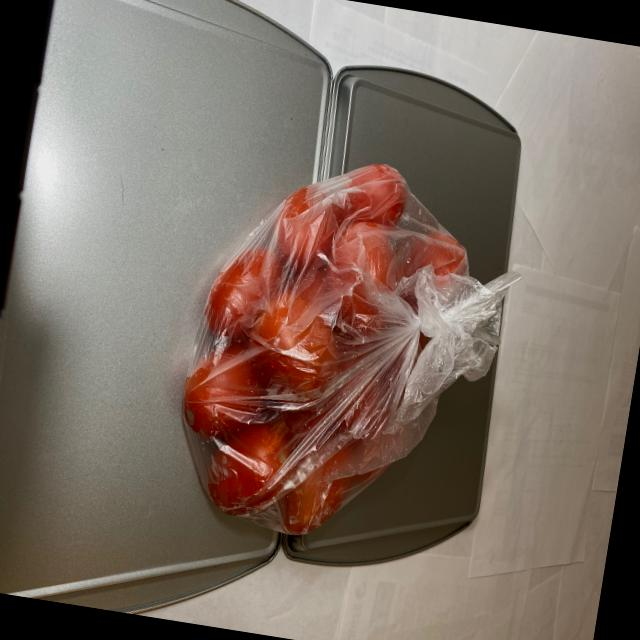tomato: (154, 141, 477, 554)
